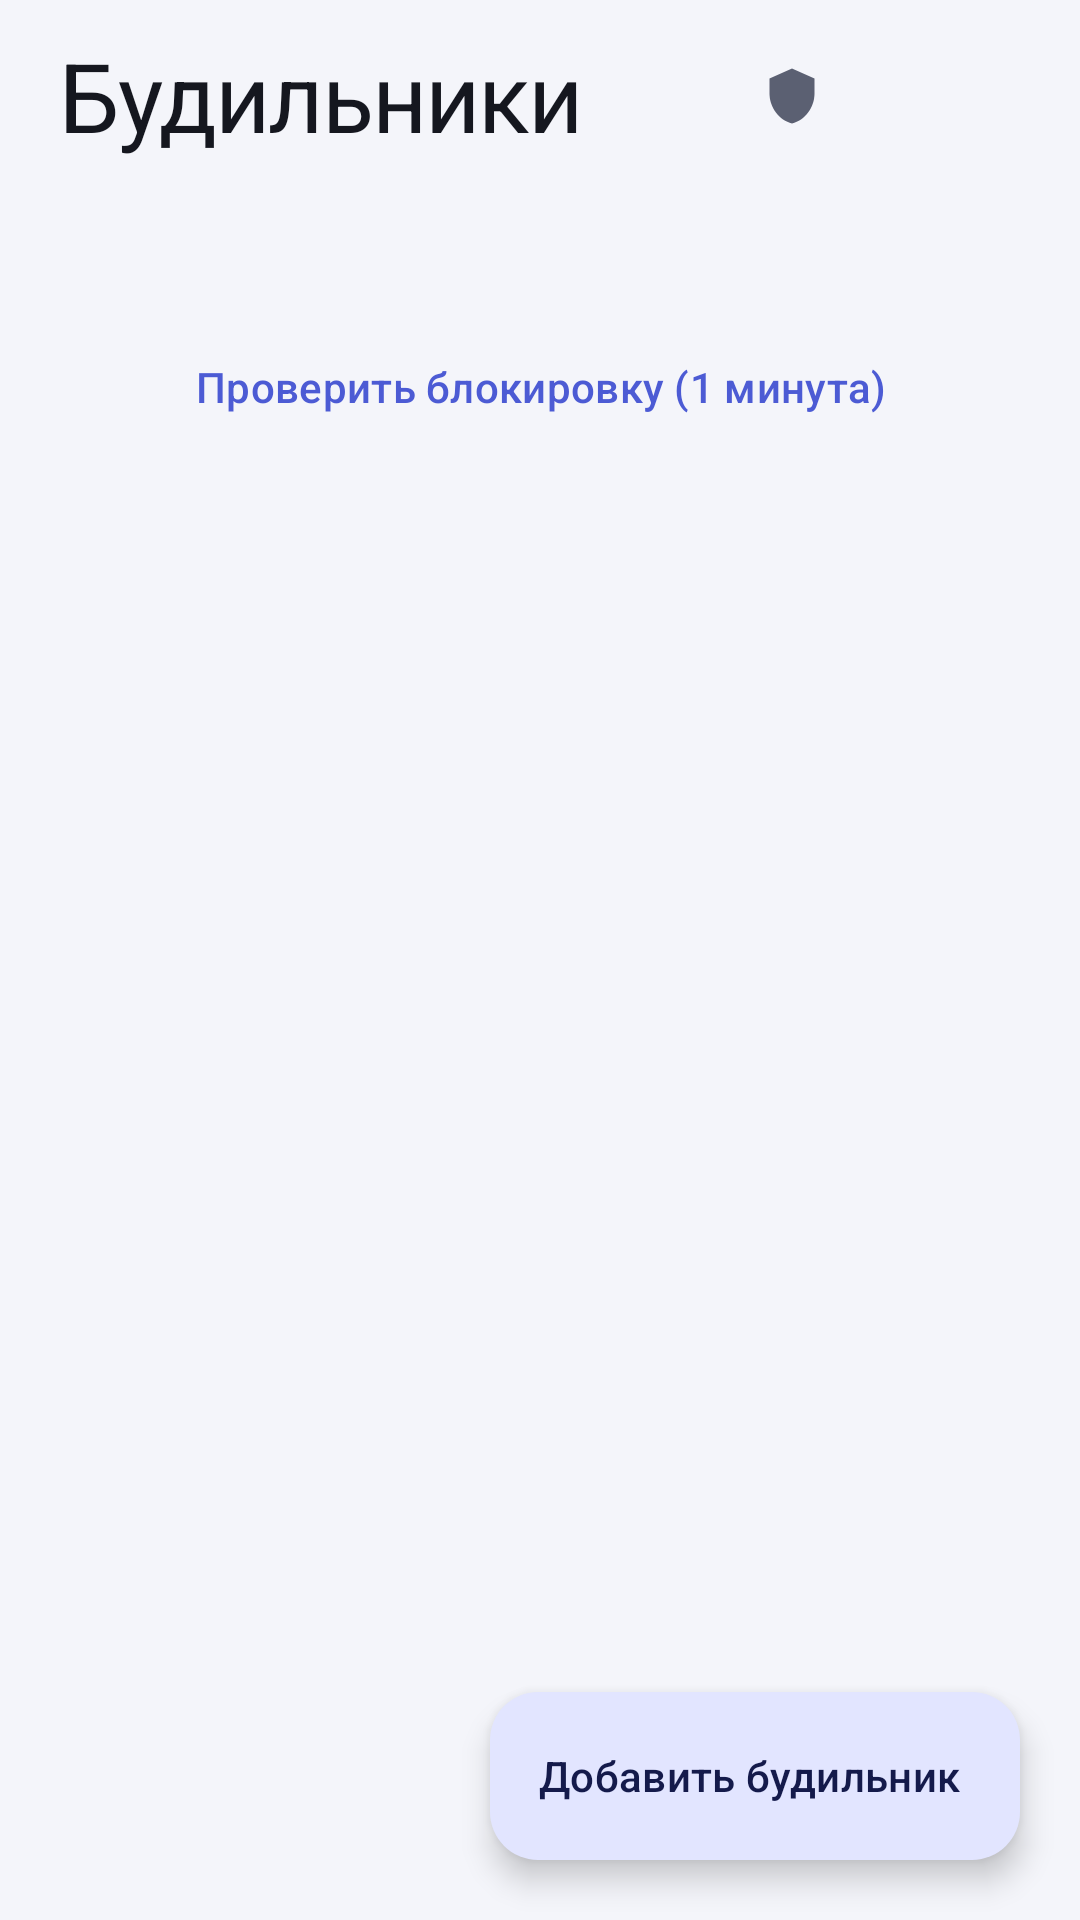

Point at icon controls on the screen. Image size 1080 x 1920, points as (x=x, y=y).
Проверка разрешений: (x=792, y=96)
